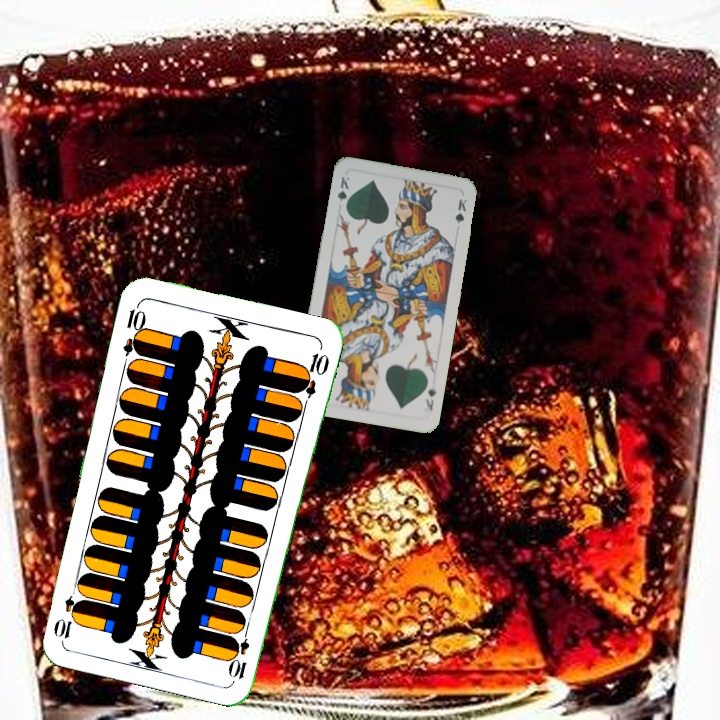E10: (119, 299, 149, 358), (228, 622, 253, 682)
GK: (334, 172, 352, 212), (421, 382, 439, 414)
